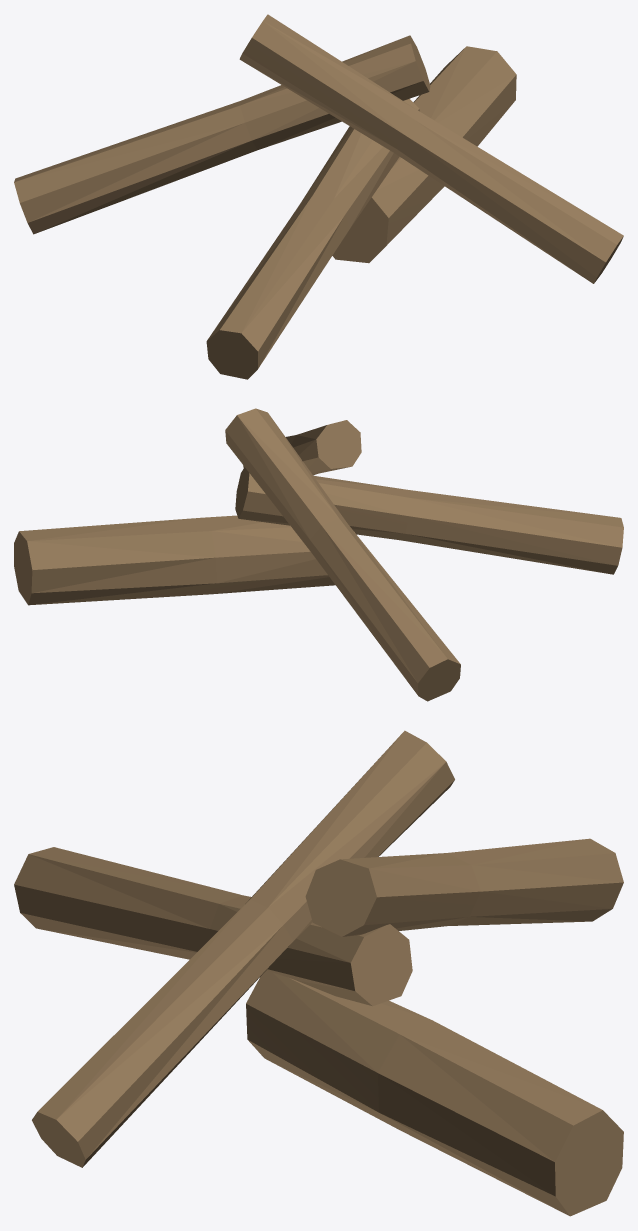
Rendered from FireWood.glb.
The picture shows the model from 3 angles, top to bottom: view 1: azimuth 30°, elevation 25°; view 2: azimuth 150°, elevation 25°; view 3: azimuth 270°, elevation 25°; orthographic projection. The views are drawn at different scales.
Visible parts, largest first — view 1: FireWood; view 2: FireWood; view 3: FireWood.
Boxes of the visible parts, box(x1,y1,x2,y2) form: FireWood: box(14, 14, 623, 379); FireWood: box(14, 408, 623, 701); FireWood: box(14, 730, 623, 1216).
Bounding box in the file's own units: 1.09 × 0.4652 × 0.8635.
